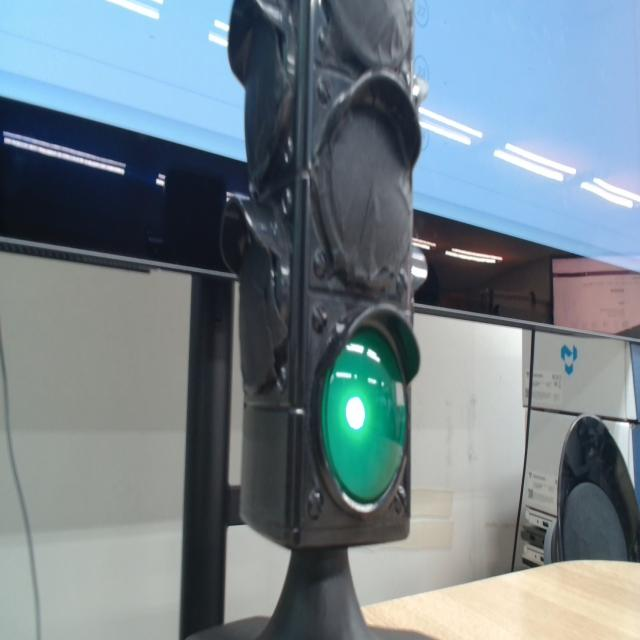green_light: (322, 328, 406, 503), (346, 397, 365, 430)
